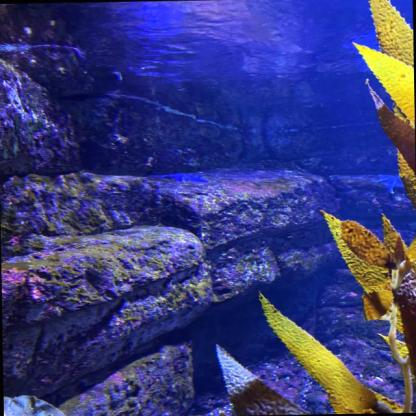starfish: (372, 172, 409, 197), (160, 168, 209, 184)
